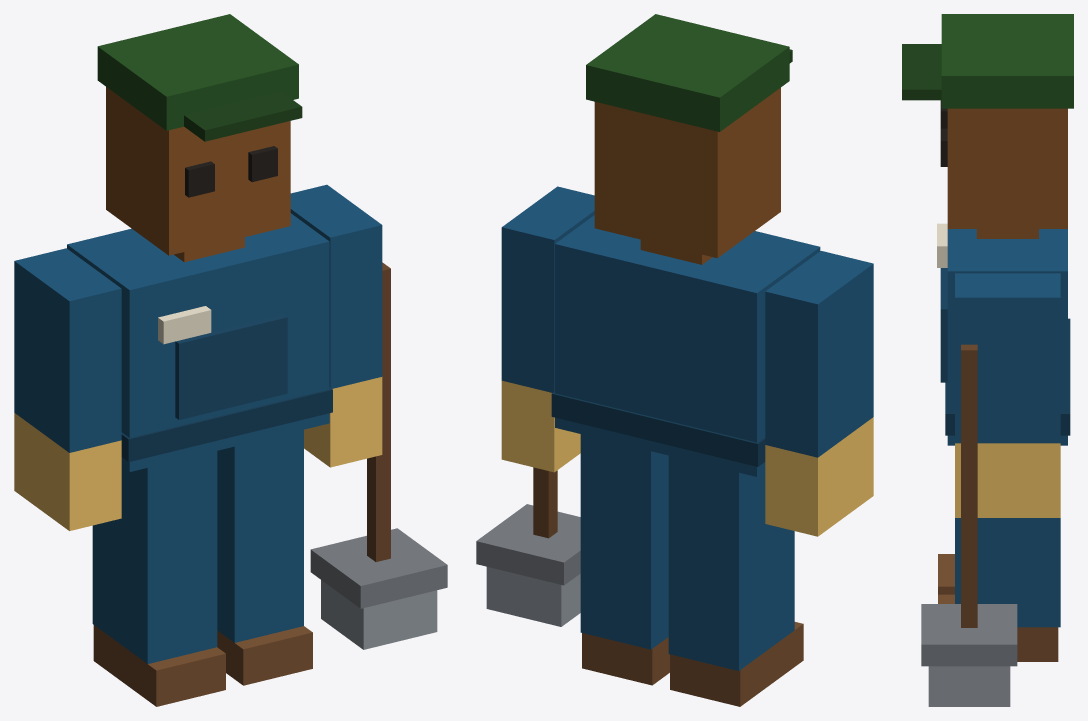
Rendered from office__janitor.glb.
3 renders of one model, left to right at view 1: azimuth 30°, elevation 25°; view 2: azimuth 150°, elevation 25°; view 3: azimuth 270°, elevation 25°, orthographic. The views are drawn at different scales.
Visible parts, largest first — view 1: office__janitor, rig_armL, rig_legL, rig_legR, rig_armR; view 2: office__janitor, rig_armL, rig_legL, rig_legR, rig_armR; view 3: office__janitor, rig_armR, rig_legR, rig_legL.
Part boxes in pixels (bbox=[...]): office__janitor: bbox=[67, 14, 447, 649]; rig_armL: bbox=[14, 248, 121, 530]; rig_legL: bbox=[92, 451, 225, 706]; rig_legR: bbox=[217, 429, 312, 685]; rig_armR: bbox=[290, 184, 382, 467]; office__janitor: bbox=[476, 14, 820, 626]; rig_armL: bbox=[765, 251, 873, 536]; rig_legL: bbox=[668, 455, 803, 706]; rig_legR: bbox=[580, 434, 669, 685]; rig_armR: bbox=[501, 186, 594, 472]; office__janitor: bbox=[902, 14, 1073, 706]; rig_armR: bbox=[955, 273, 1060, 517]; rig_legR: bbox=[938, 518, 1060, 661]; rig_legL: bbox=[938, 554, 954, 594].
Bounding box in the file's own units: 1.66 × 2.67 × 0.715.
